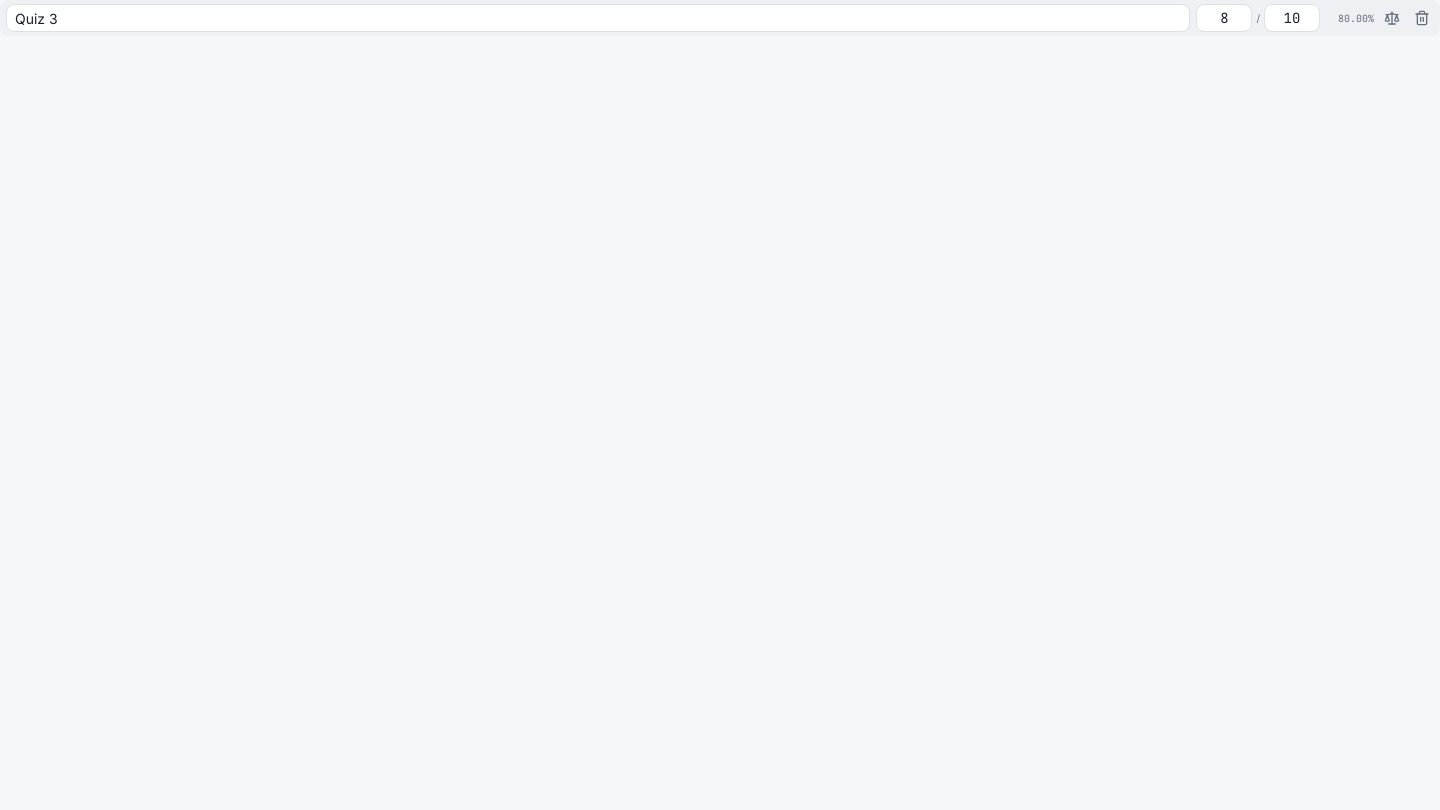
Scenario: SubBreakdownRow › opens the re-mark dialog from its own button
Click the button named "Change full mark": coordinates (1392, 18) x1=1380 y1=6 x2=1404 y2=30
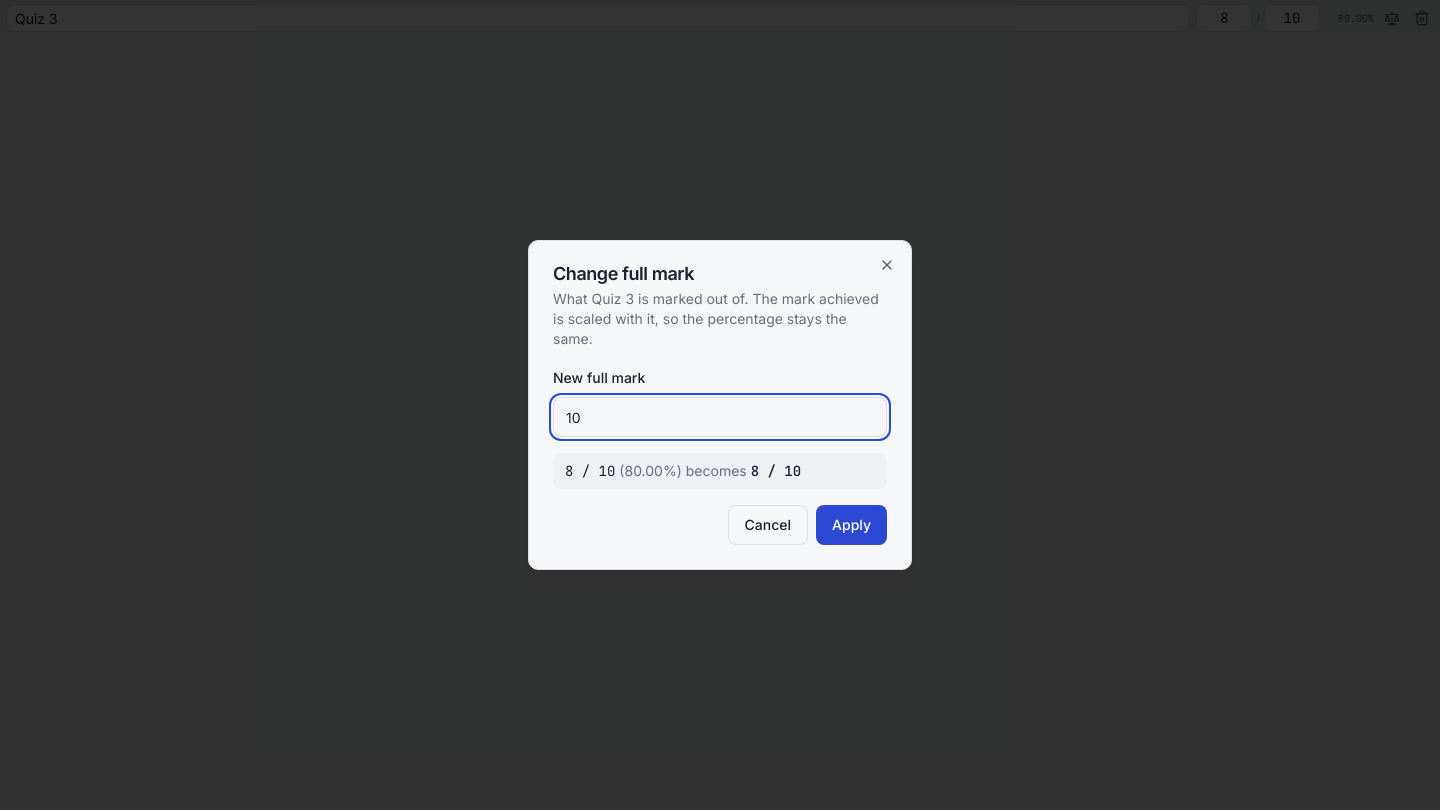
Expected: the heading "Change full mark" is shown, x1=553 y1=263 x2=694 y2=284
